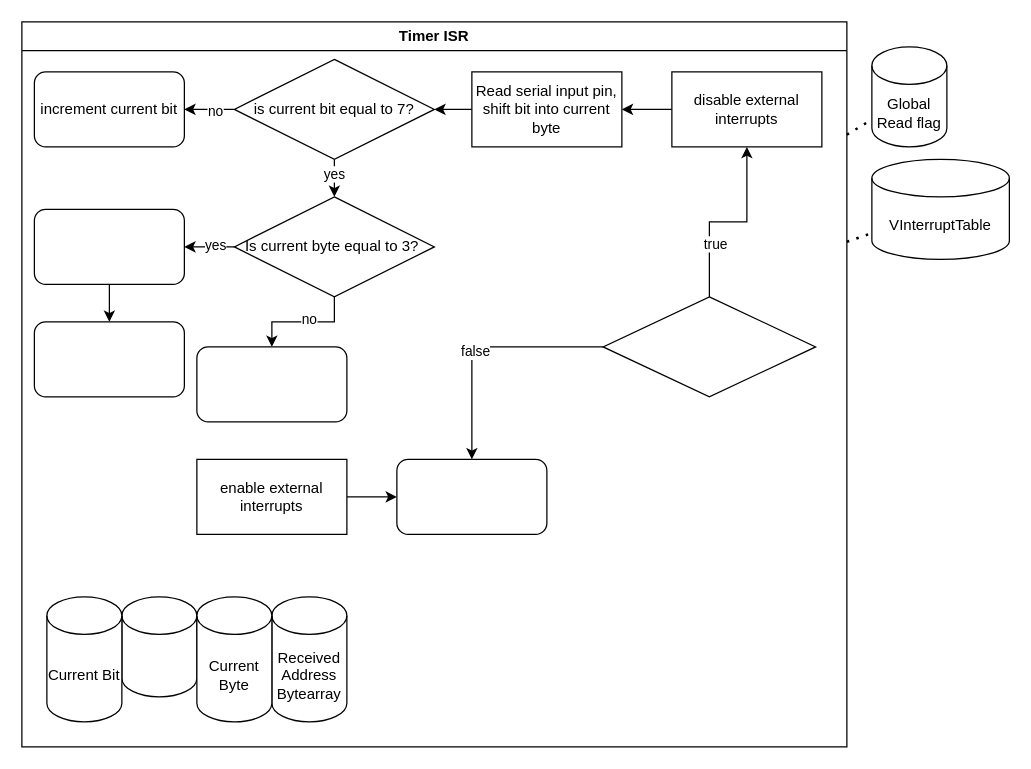
This 1031x769 diagram has some shape labels left out. The shapes that lost their labels are listed below. From the top down, each one's box as (x1, y1, x2, y2) in pixels, then its label:
(33, 208, 184, 284): perform FEC with bytearray, perform hamming distance calculation
(33, 321, 184, 397): execute matching operation from VINterruptTable
(602, 296, 816, 397): Global Read Flag AVAILABLE?
(196, 346, 347, 422): Set current bit to 0, increment current byte
(396, 458, 547, 534): toggle high value, write value, await next timer interrupt
(121, 596, 197, 697): High Flag
